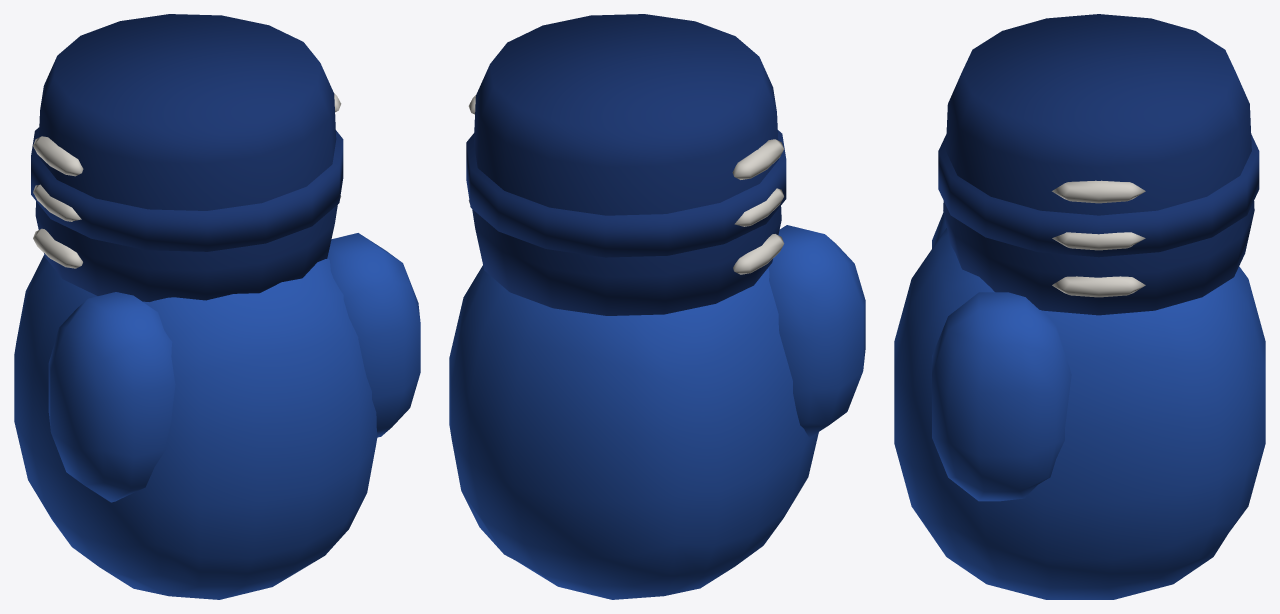
Rendered from boxing_gloves.glb.
3 renders of one model, left to right at view 1: azimuth 30°, elevation 25°; view 2: azimuth 150°, elevation 25°; view 3: azimuth 270°, elevation 25°, orthographic. The views are drawn at different scales.
Visible parts, largest first — view 1: Glove_blue_L, Glove_blue_R; view 2: Glove_blue_L; view 3: Glove_blue_L, Glove_blue_R.
Boxes of the visible parts, x1=… form: Glove_blue_L: x1=14, y1=14, x2=377, y2=599; Glove_blue_R: x1=327, y1=93, x2=420, y2=437; Glove_blue_L: x1=449, y1=14, x2=865, y2=599; Glove_blue_L: x1=894, y1=14, x2=1265, y2=599; Glove_blue_R: x1=932, y1=180, x2=1145, y2=501.
Bounding box in the file's own units: 0.1717 × 0.2365 × 0.1573.
